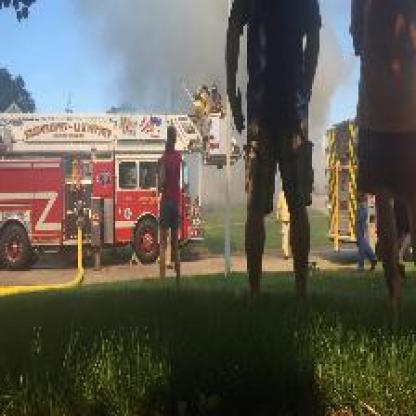smoke: (182, 89, 328, 196), (86, 5, 216, 85)
